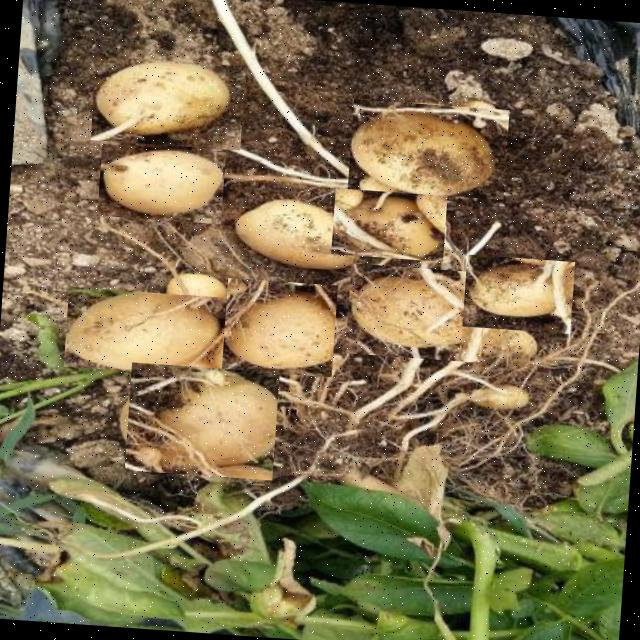Diseased-fungal potato: (346, 98, 508, 198), (344, 262, 486, 361), (461, 253, 574, 332), (330, 187, 446, 260)
Potato: (123, 361, 278, 479), (62, 286, 234, 376), (90, 55, 244, 149), (220, 276, 336, 376), (232, 195, 366, 274), (96, 142, 224, 222)
